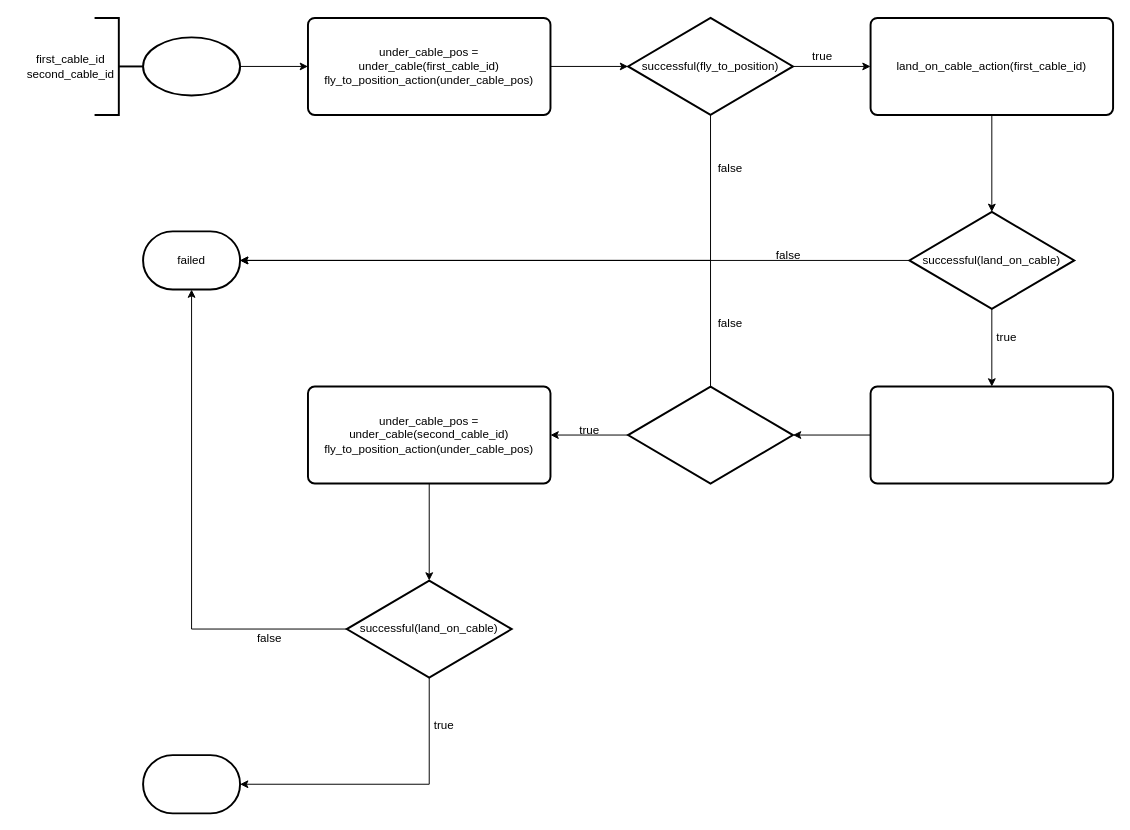
Image size: 1130x830. Some labels were removed from this diagram. The centre of each missing label's shape, as x and y in pixels:
leave_cable_action() drum_manual_roll_action(out, roll_secs_param): (x=991, y=434)
start: (x=191, y=66)
success: (x=191, y=784)
successful(leave_cable): (x=710, y=434)
